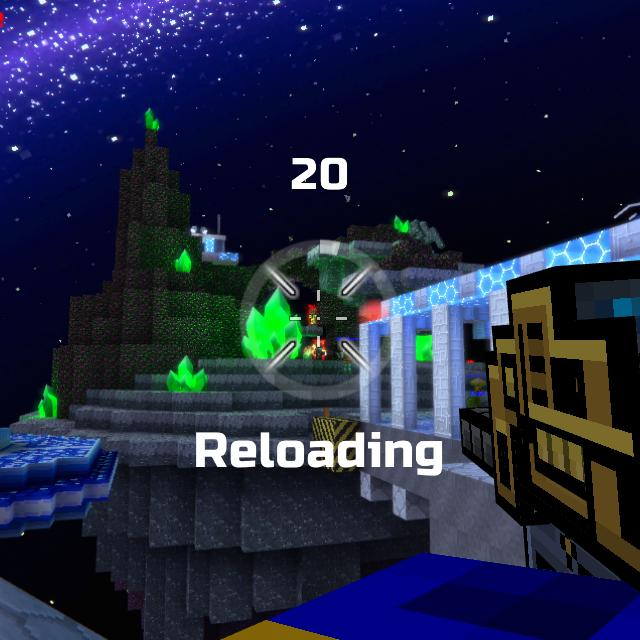Enemy: (314, 344, 325, 359), (308, 309, 317, 326)
